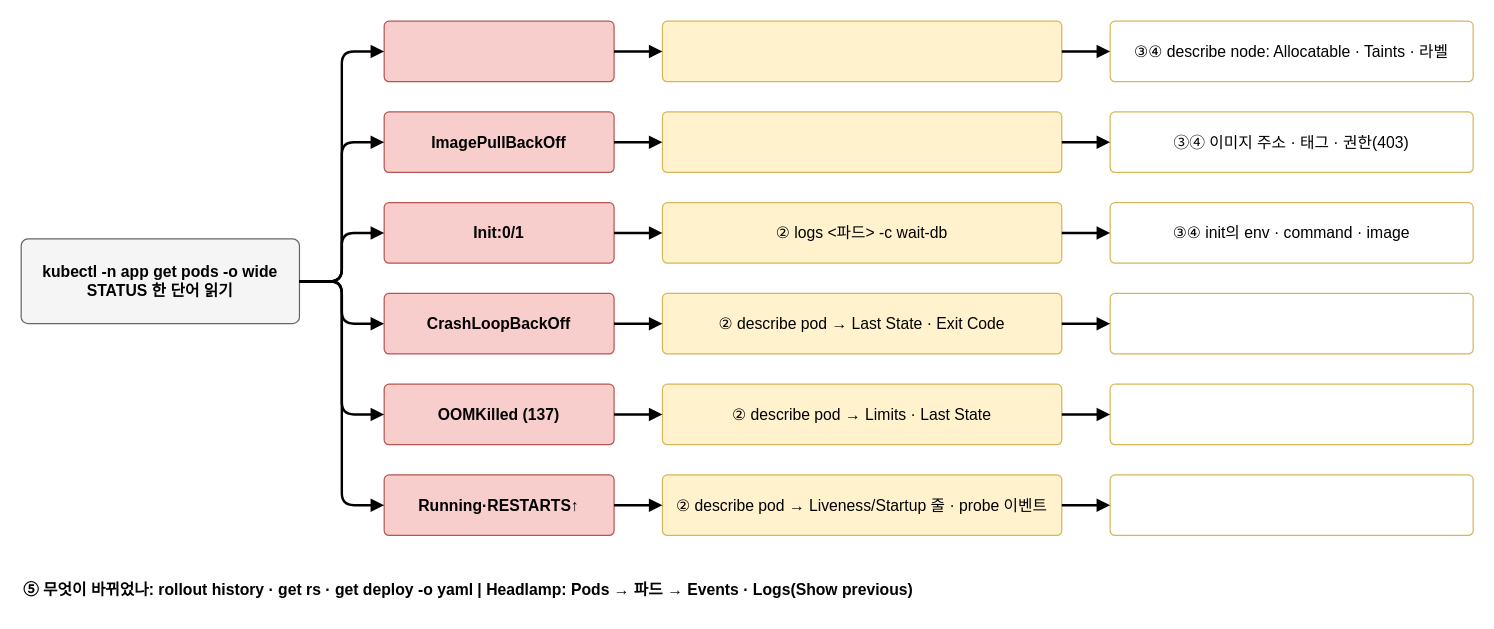
The diagram is 1494 pixels wide and 629 high, and some of its shapes have lost their labels. Each missing label, with the centre of its shape:
Pending: the point at 498,51
② describe pod → Events: Failed to pull image: the point at 861,141
② describe pod → Events: FailedScheduling: the point at 861,51
③④ kubectl top · limitrange · env: the point at 1291,414
③④ logs -c app --previous 마지막 줄: the point at 1291,323
③④ 앱 안에서 경로·응답시간 직접 측정: the point at 1291,504
